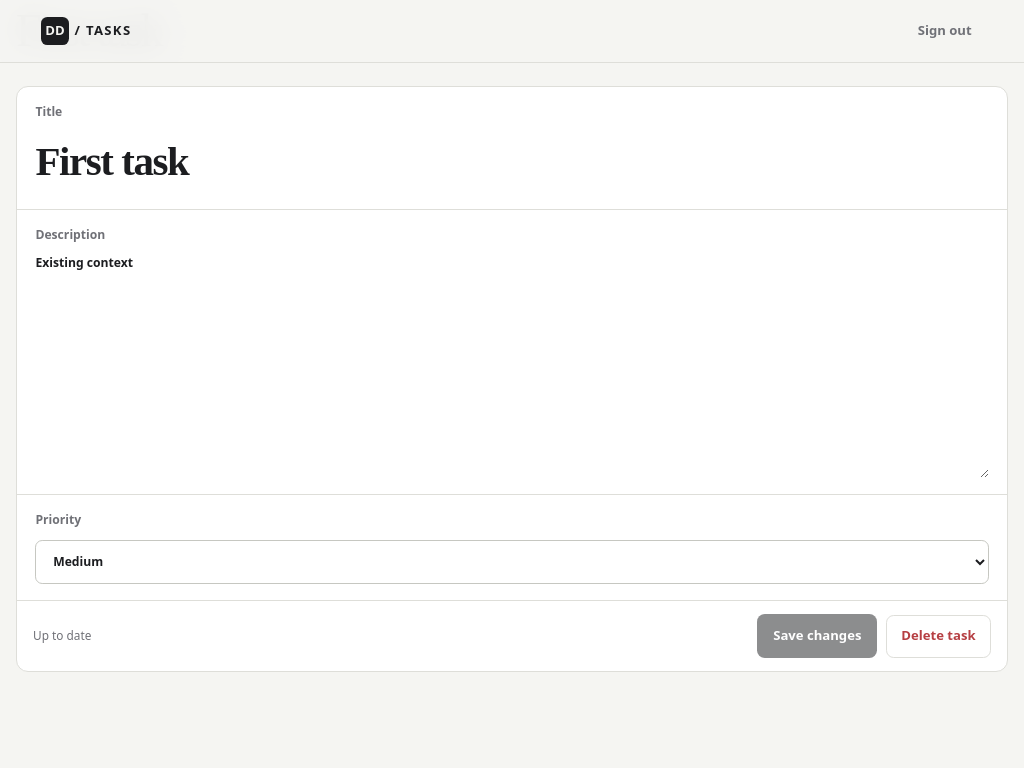
Test: product route shell › exposes task editing and guarded deletion on a deep link
The width and height of the screenshot is (1024, 768).
(page scrolled)
Expected: the field with test id "task-detail-title" holds "First task", [35, 131, 989, 192]
Click the button with test id "task-delete" at coordinates (938, 636), box [886, 615, 991, 658]
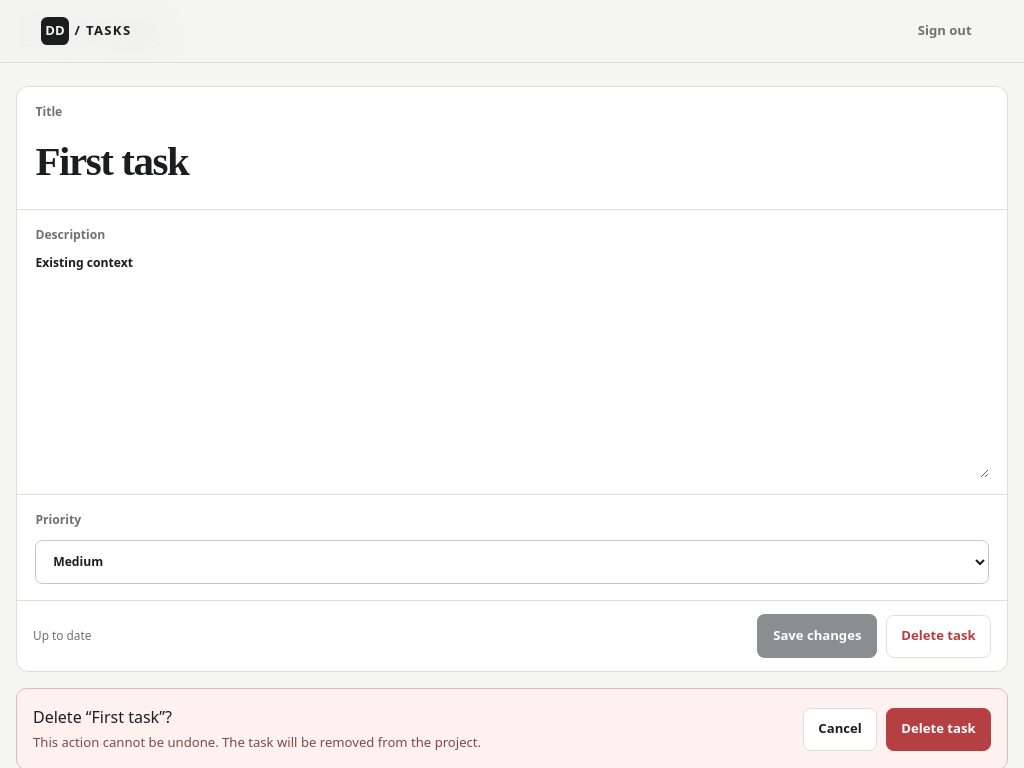
Now the button with test id "task-delete-confirm" is shown, box [886, 708, 991, 751]
